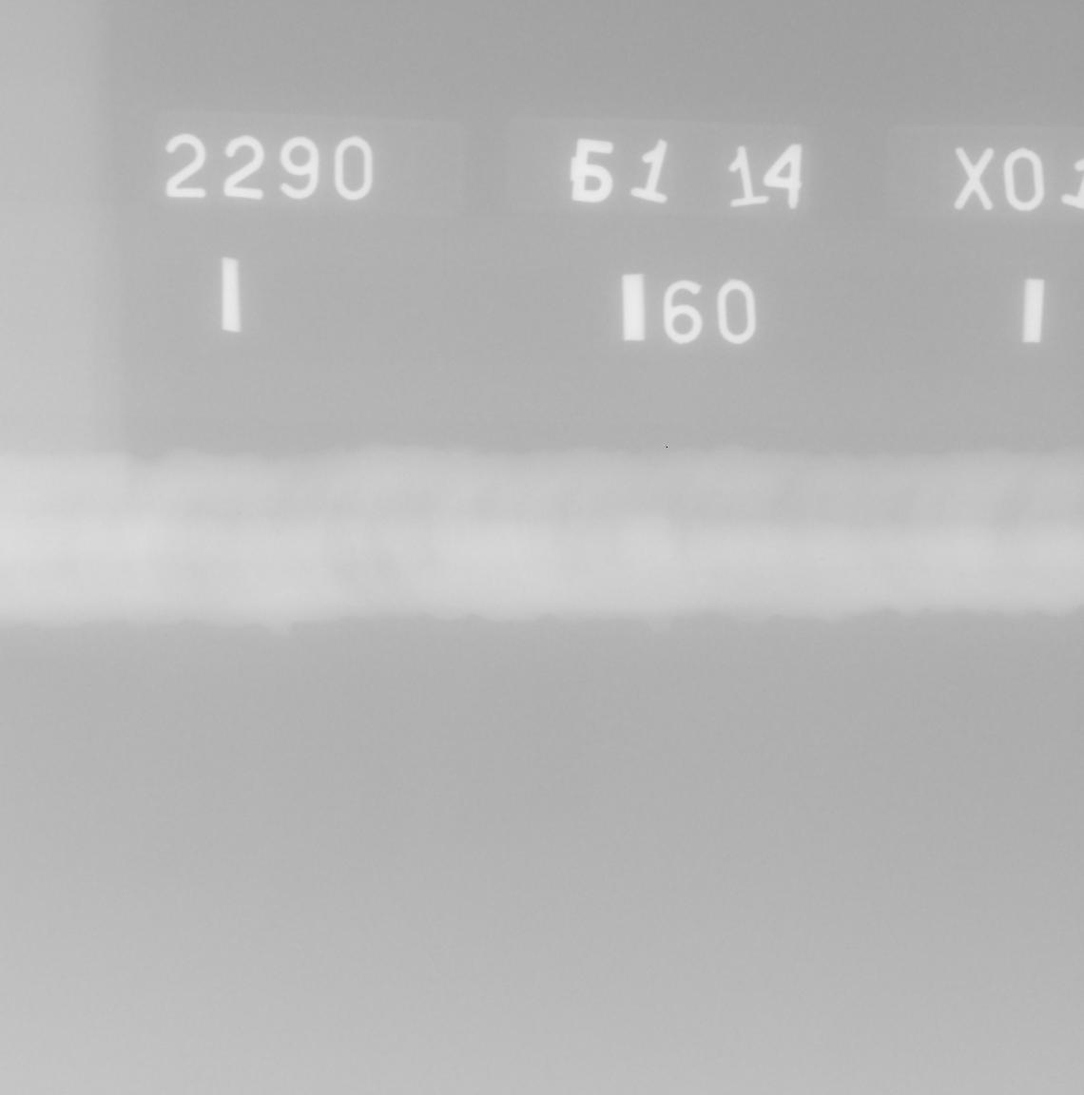Pore/Porosity: (819, 556, 825, 560), (276, 530, 280, 534), (237, 511, 241, 515), (250, 512, 253, 516)
